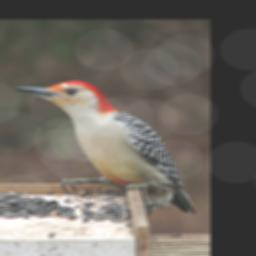Woodpecker: (13, 80, 198, 217)
